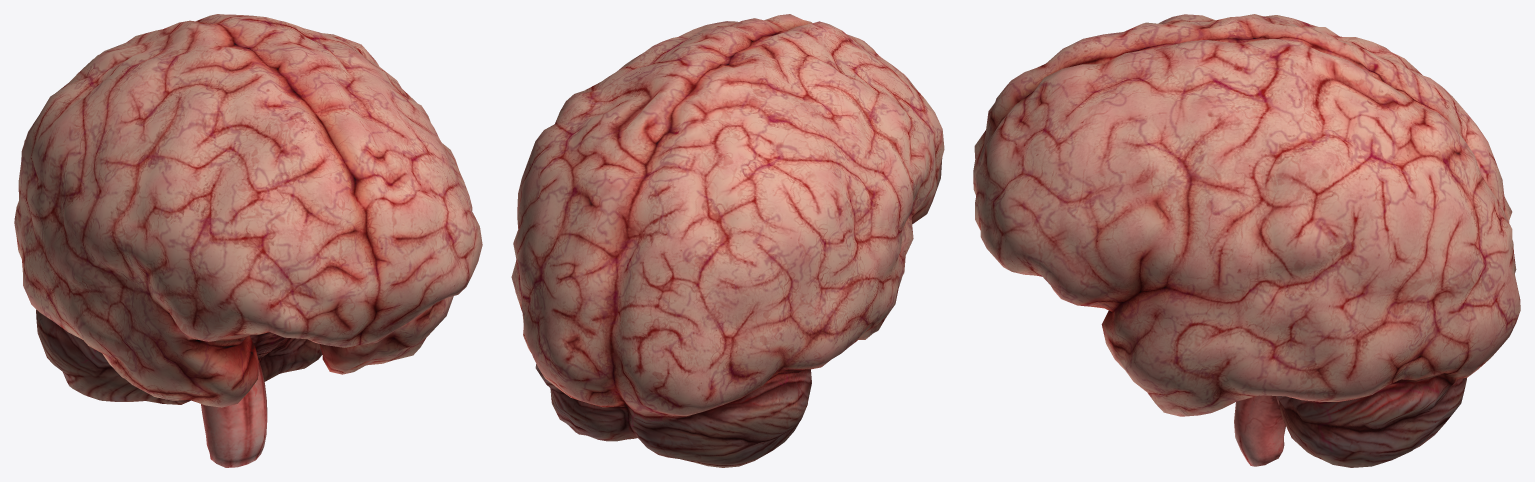
File: brains.glb
3 renders of one model, left to right at view 1: azimuth 30°, elevation 25°; view 2: azimuth 150°, elevation 25°; view 3: azimuth 270°, elevation 25°, orthographic. The views are drawn at different scales.
Visible parts, largest first — view 1: brain.1_1; view 2: brain.1_1; view 3: brain.1_1.
Boxes of the visible parts, x1,y1,x2,y2 form: brain.1_1: (14, 14, 482, 467); brain.1_1: (511, 14, 944, 467); brain.1_1: (973, 14, 1520, 467).
Bounding box in the file's own units: 1.35 × 1.52 × 1.76.
1 material, 1 textured.
